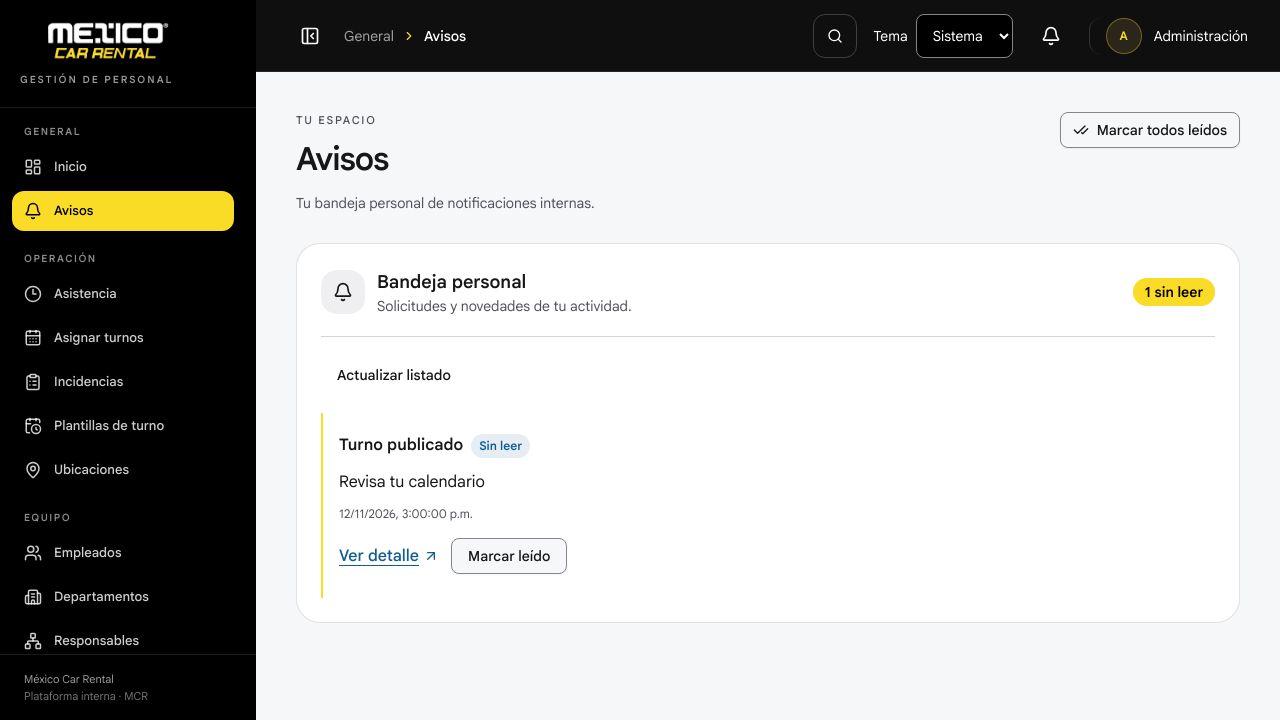
it: operaciones persistentes de etapas 10–12 › marca un aviso leído con CSRF y actualiza su estado
Click the button with aria-label "Marcar leído: Turno publicado". click: (509, 556)
box: [451,538,567,574]
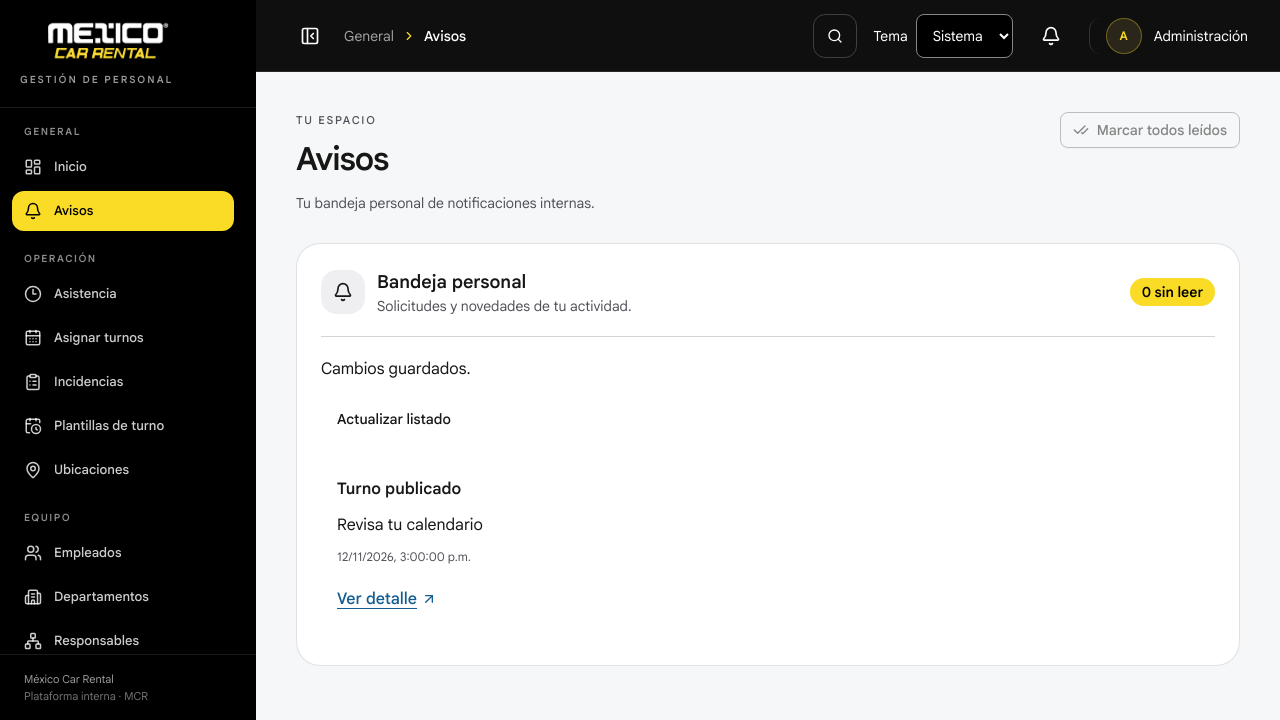
Expected: the text "0 sin leer" is shown, [1130,278,1215,306]
